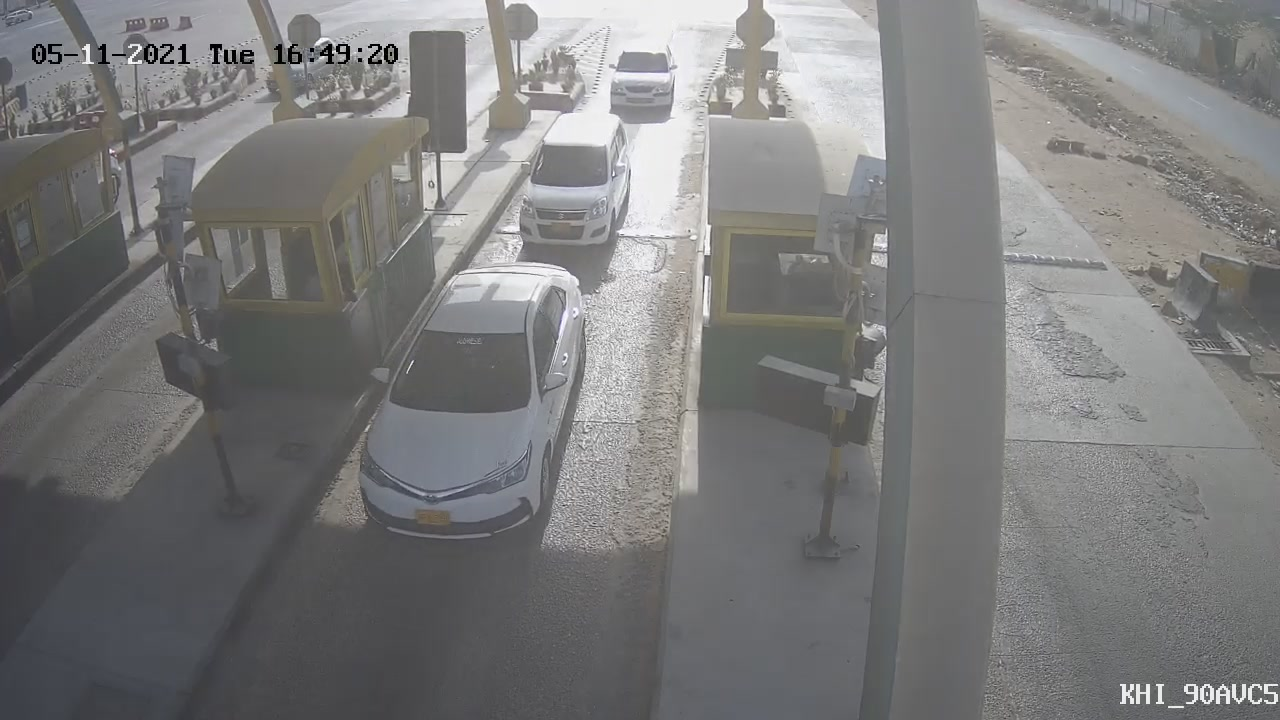F1: (338, 247, 607, 572), (498, 96, 648, 265), (598, 30, 694, 135)
